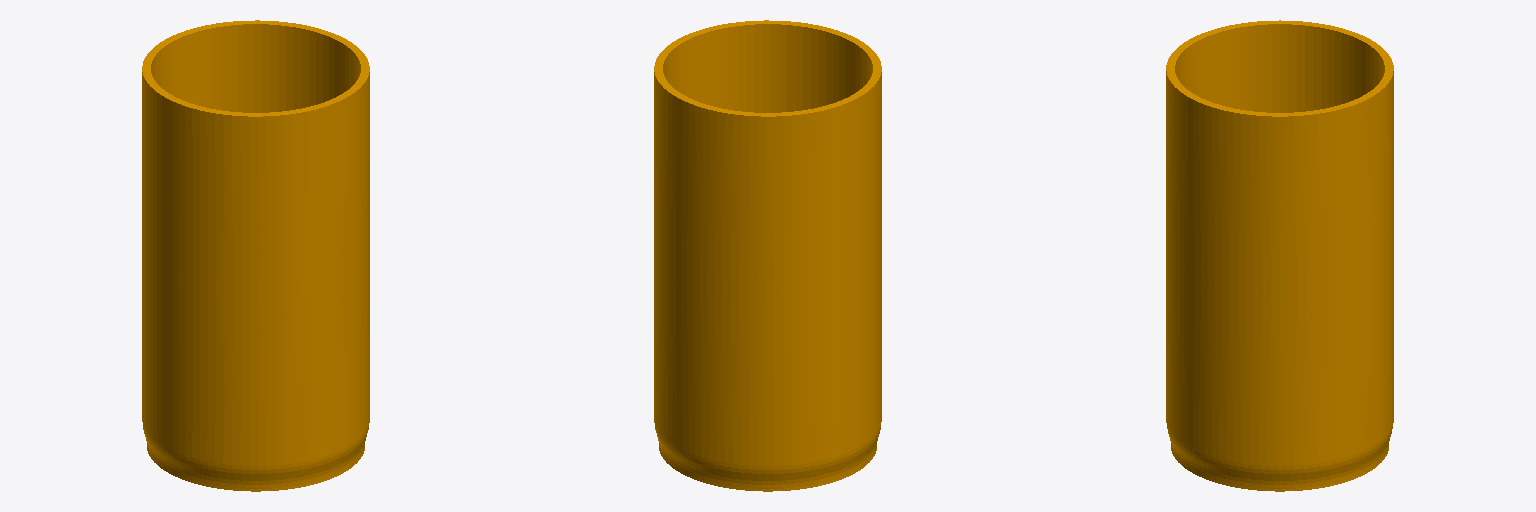
robot.urdf — cup:
<?xml version="1.0" ?>
<robot name="cup">

<material name="silver">
  <color rgba="0.53 0.81 0.92 1.0"/>
</material>

<link  name="base_link">
  <inertial>
    <origin xyz="1.0017540500466136e-13 1.2974408108361789e-17 0.04365529200885401" rpy="0 0 0"/>
    <mass value="3.0558838849735995"/>
    <inertia ixx="3.433017181374287e-05" iyy="3.4330171790118906e-05" izz="1.7975664225868897e-05" ixy="2.11457518162603e-20" iyz="-1.9696491235563548e-20" ixz="1.3216458708385083e-16"/>
  </inertial>
  <visual>
    <origin xyz="0 0 0" rpy="0 0 0"/>
    <geometry>
      <mesh filename="meshes/base_link.stl" scale="0.001 0.001 0.001"/>
    </geometry>
    <material name="silver"/>
    <material/>
  </visual>
  <collision>
     
    <origin xyz="0 0 0" rpy="0 0 0"/>
    <geometry>
      <mesh filename="meshes/base_link.stl" scale="0.001 0.001 0.001"/>
    </geometry>
     <contact>
      <soft_cfm value="0.0"/>
      <soft_erp value="0.2"/>
  </contact>
  </collision>
</link>

</robot>

--- Facts derived from the render (not from the file) ---
The picture shows the robot from 3 angles, left to right: view 1: azimuth 30°, elevation 25°; view 2: azimuth 150°, elevation 25°; view 3: azimuth 270°, elevation 25°; orthographic projection.
Model cup with 1 links and 0 joints (none), rooted at base_link, posed every joint at zero.
Links seen in each view (by area): view 1: base_link; view 2: base_link; view 3: base_link.
Link boxes in pixels (bbox=[...]): base_link: bbox=[142, 20, 369, 491]; base_link: bbox=[654, 20, 881, 491]; base_link: bbox=[1166, 20, 1393, 491].
Bounding box of the posed robot: 0.052 × 0.052 × 0.095 m (x, y, z).
1 mesh visuals loaded from 1 distinct referenced files (1 binary STL).